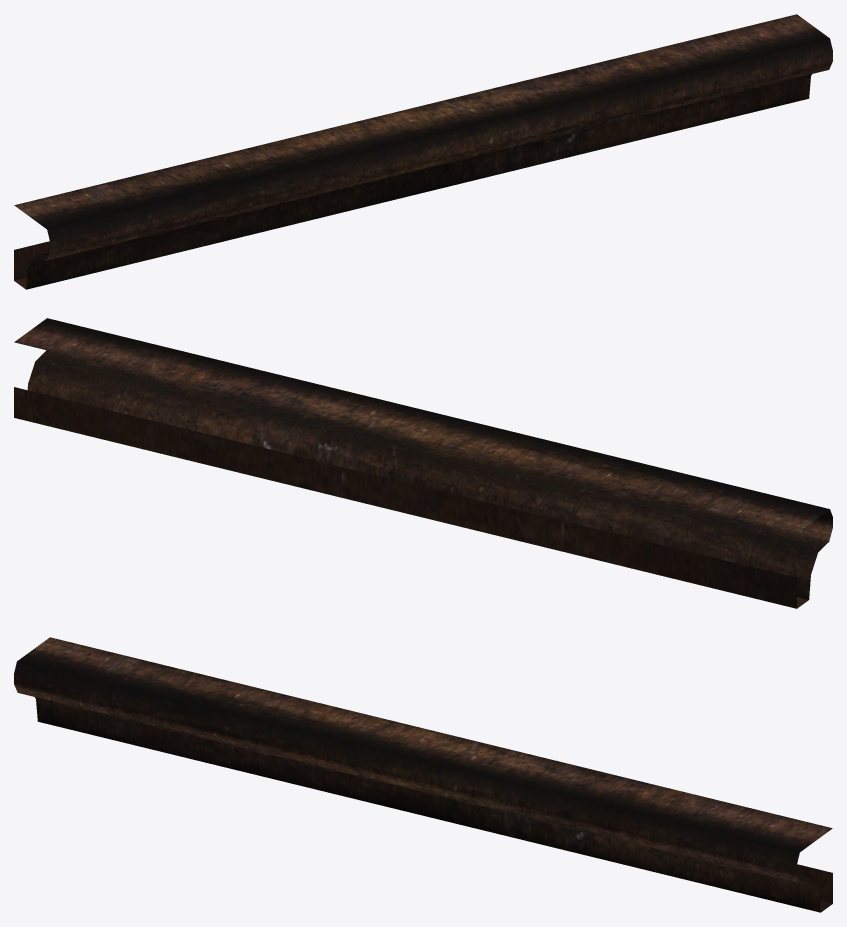
Rendered from default02_floorcap_01.DAE.
3 views of the same model, one above another, from view 1: azimuth 30°, elevation 25°; view 2: azimuth 150°, elevation 25°; view 3: azimuth 330°, elevation 25° (orthographic).
Parts seen in each view (by area): view 1: default006; view 2: default006; view 3: default006.
Part boxes in pixels (x1,y1,x2,y2): default006: [14, 14, 832, 289]; default006: [14, 318, 832, 608]; default006: [14, 637, 832, 912].
Bounding box in the file's own units: 4 × 0.3687 × 0.3188.
